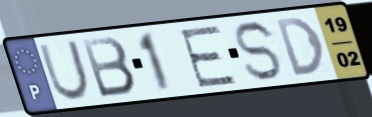1: (137, 29, 177, 96)
B: (78, 34, 139, 100)
D: (272, 15, 328, 79)
E: (177, 23, 240, 90)
S: (234, 19, 285, 84)
U: (36, 38, 93, 103)
